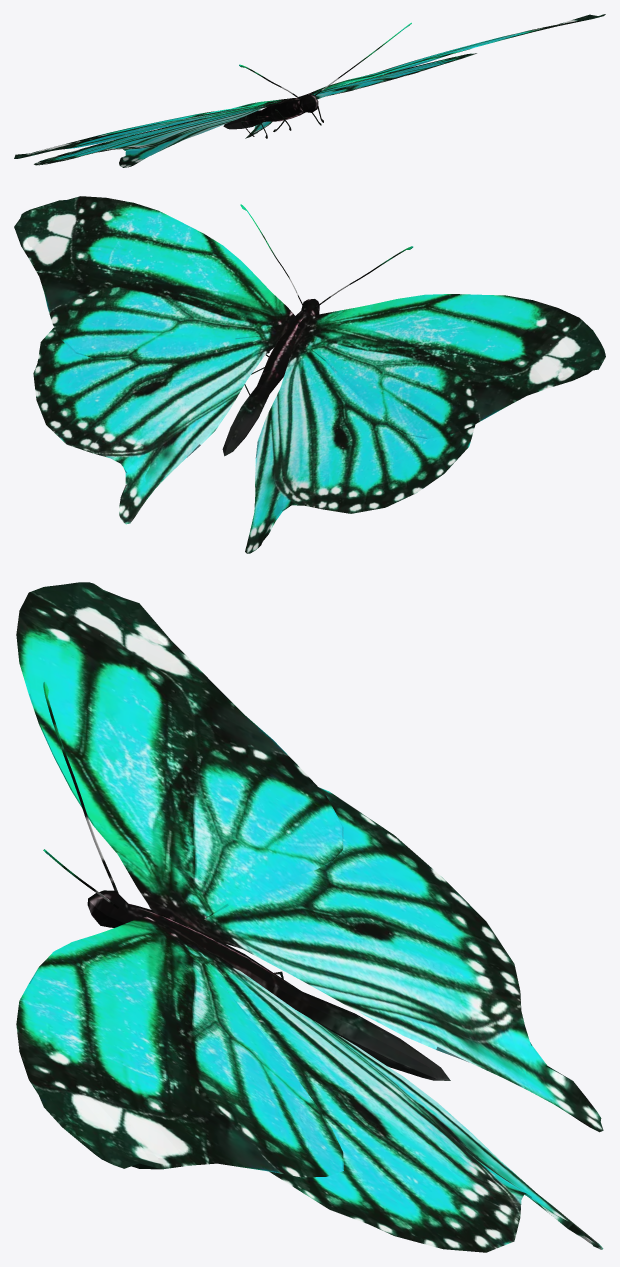
The model's file is butterfly_b.glb.
The picture shows the model from 3 angles, top to bottom: view 1: azimuth 30°, elevation 25°; view 2: azimuth 150°, elevation 25°; view 3: azimuth 270°, elevation 25°; orthographic projection. The views are drawn at different scales.
Visible parts, largest first — view 1: Wings_Side1_Wings_Side1, Wings_Top1_Wings_Top1, Body; view 2: Wings_Top1_Wings_Top1, Wings_Side1_Wings_Side1, Body; view 3: Wings_Top1_Wings_Top1, Wings_Side1_Wings_Side1, Body.
Part boxes in pixels (box(x1,y1,x2,y2)): Wings_Side1_Wings_Side1: box(34, 53, 476, 167); Wings_Top1_Wings_Top1: box(14, 14, 605, 158); Body: box(223, 22, 411, 138); Wings_Top1_Wings_Top1: box(14, 196, 605, 439); Wings_Side1_Wings_Side1: box(33, 327, 475, 553); Body: box(222, 204, 413, 456); Wings_Top1_Wings_Top1: box(16, 582, 343, 1177); Wings_Side1_Wings_Side1: box(178, 787, 603, 1252); Body: box(43, 682, 450, 1080).
Size of the model in its own units: 171 by 59.08 by 74.22.
1 material, 1 textured.
